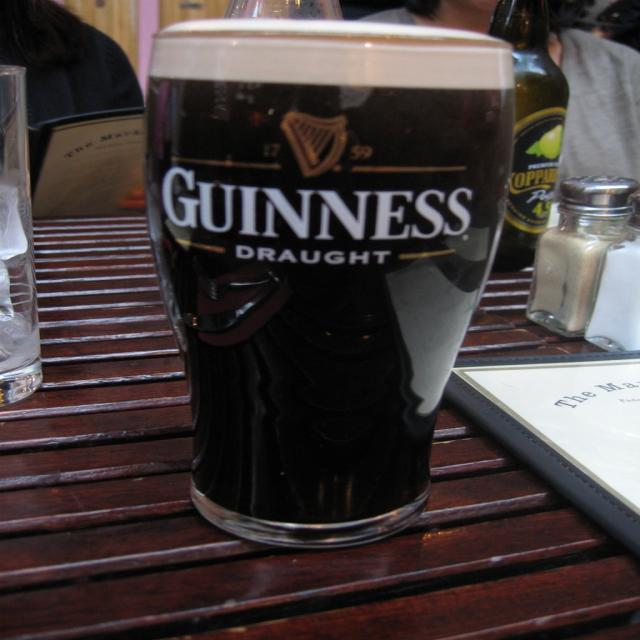guiness: (157, 110, 478, 245)
